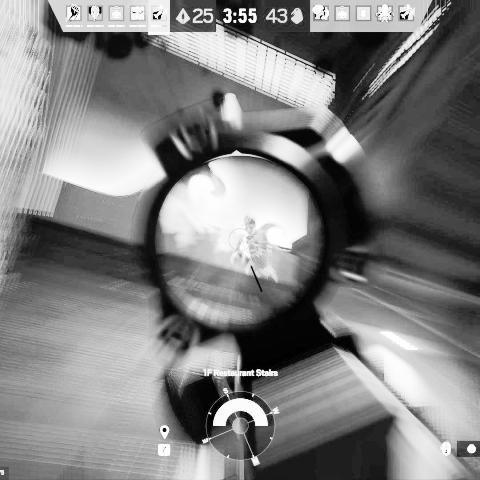Character: (229, 214, 279, 275)
Head: (244, 216, 257, 234)
